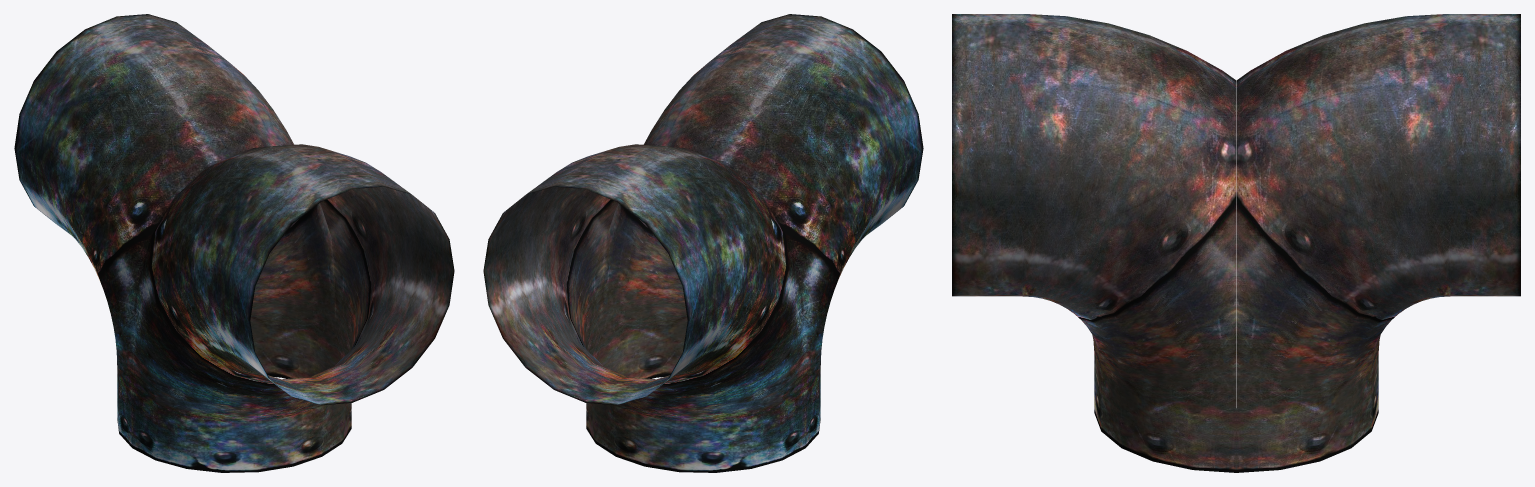
File: PipeBendT.fbx
The picture shows the model from 3 angles, left to right: view 1: azimuth 30°, elevation 25°; view 2: azimuth 150°, elevation 25°; view 3: azimuth 270°, elevation 25°; orthographic projection. The views are drawn at different scales.
Parts seen in each view (by area): view 1: Bend001; view 2: Bend001; view 3: Bend001.
Boxes of the visible parts, x1,y1,x2,y2 form: Bend001: (14,14,454,472); Bend001: (483,14,923,472); Bend001: (952,14,1520,472).
Bounding box in the file's own units: 39.37 × 59.06 × 78.74.
1 material, 1 textured.
